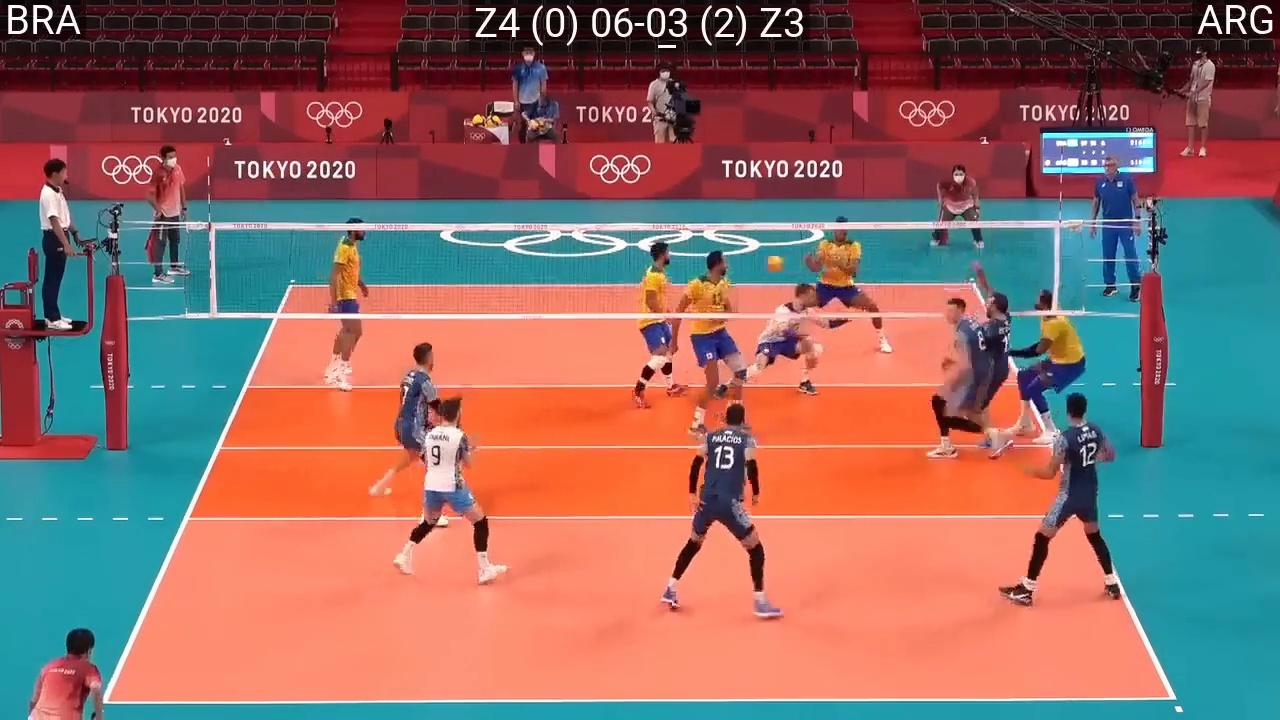ball: (766, 254, 783, 273)
